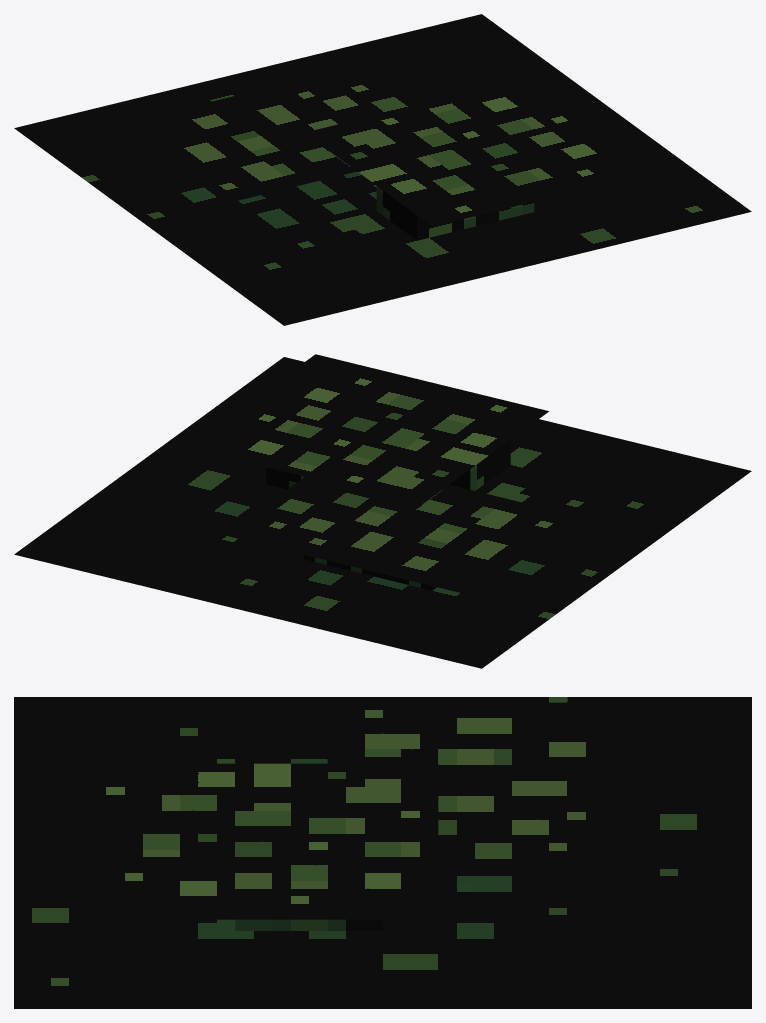
Rendered from ground-moss-2.gltf.
The picture shows the model from 3 angles, top to bottom: view 1: azimuth 30°, elevation 25°; view 2: azimuth 150°, elevation 25°; view 3: azimuth 270°, elevation 25°; orthographic projection. The views are drawn at different scales.
Visible parts, largest first — view 1: cube; view 2: cube; view 3: cube.
Part boxes in pixels (box(x1,y1,x2,y2)): cube: box(14, 14, 751, 325); cube: box(14, 354, 751, 668); cube: box(14, 697, 751, 1008).
Bounding box in the file's own units: 2.5 × 0.2032 × 2.5.
1 material, 1 textured.
